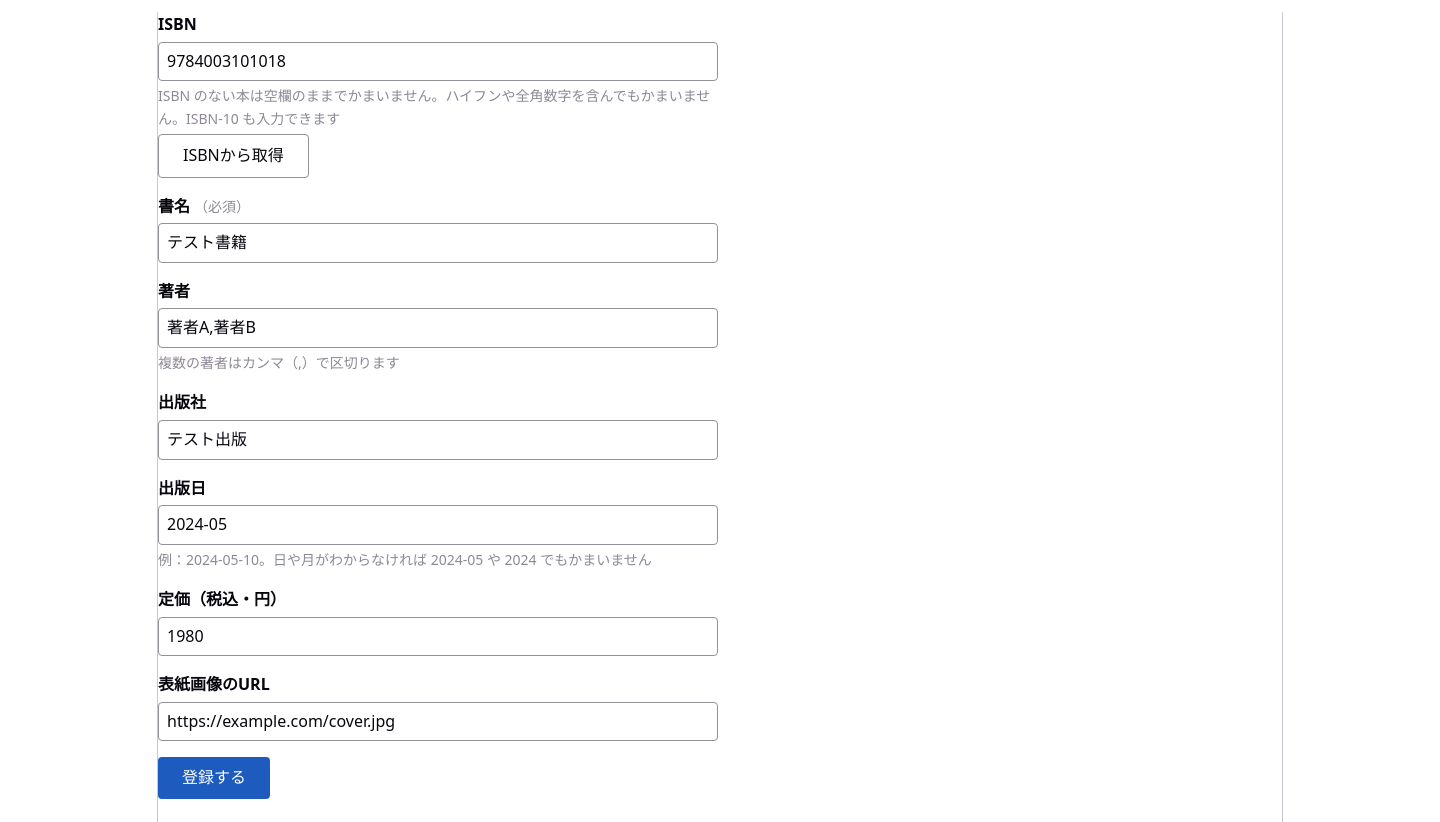
Test: BookForm の ISBNからの取得 › 取得できなかった項目は、入力済みの値を残す
What coordinates should you click on to do the following:
click the button "ISBNから取得"
I would click on:
 (233, 156)
Its box is [158,134,309,178].
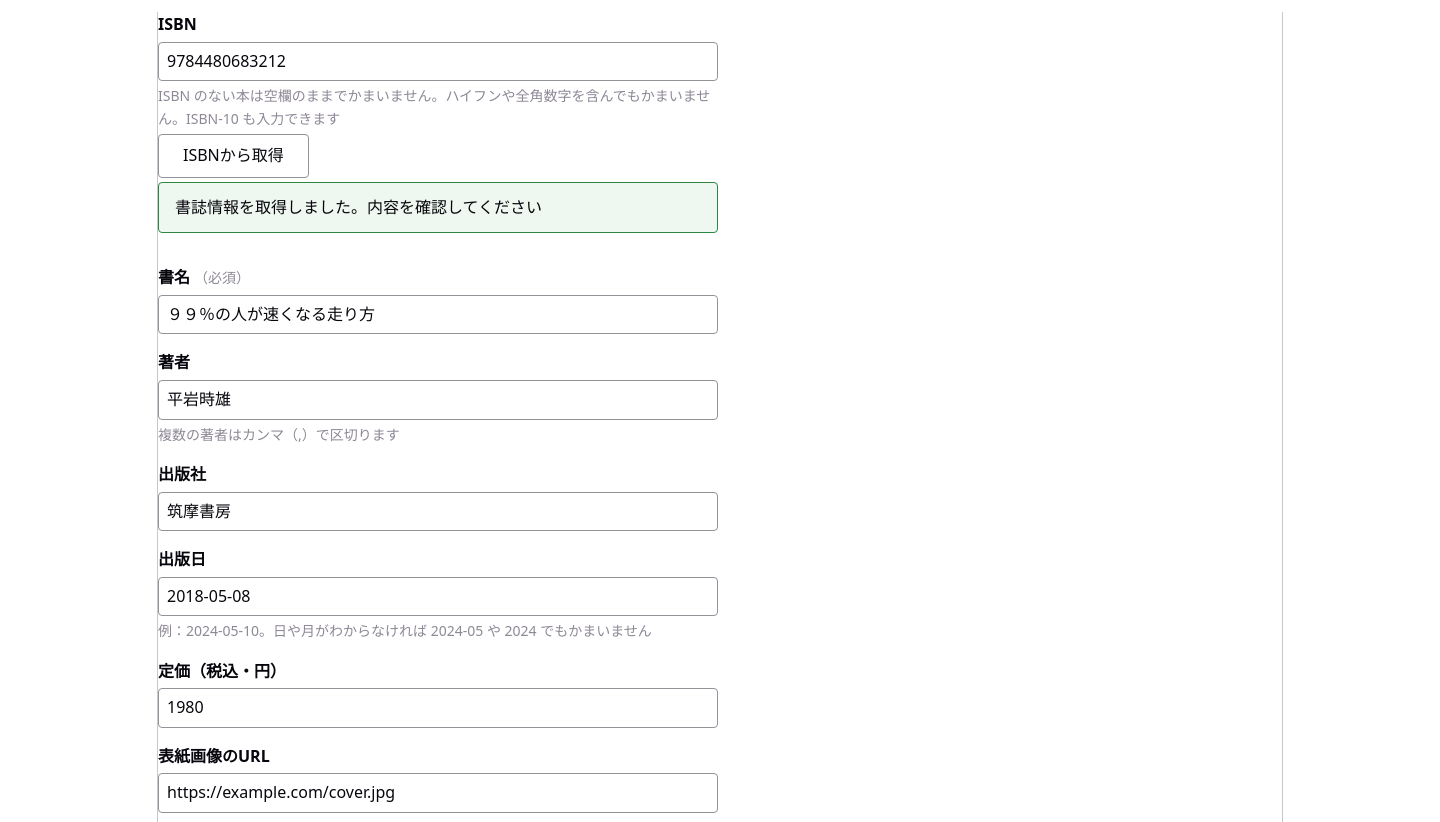
Expected: the field labelled "定価（税込・円）" holds "1980", [158,688,718,728]
Result: the message reads "書誌情報を取得しました。内容を確認してください" at [175,196,542,218]
Result: the field labelled "書名（必須）" holds "９９％の人が速くなる走り方" at [158,295,718,334]
